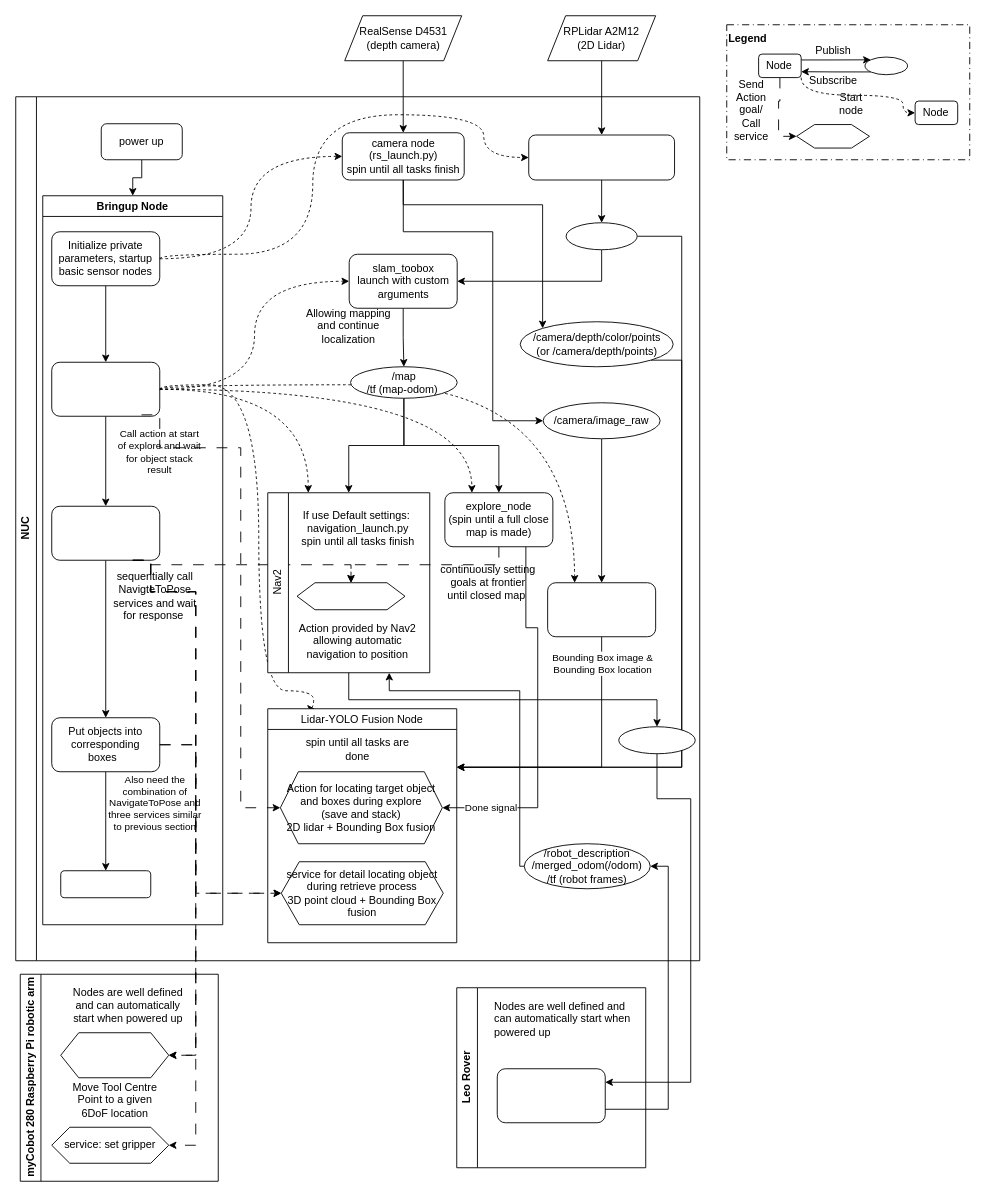
This 986x1197 diagram has some shape labels left out. The shapes that lost their labels are listed below. From the top down, each one's centre as x and y in pixels, then its label:
point (886, 65): topic
point (832, 136): Action/Service
point (601, 157): lidar node (rplidar_a2m12_launch.py) spin until all tasks finish
point (601, 236): /scan
point (105, 388): Explore and localize target objects and return boxes
point (105, 532): sequentially retrieve target objects
point (350, 596): NavigateToPose
point (601, 609): YOLOv11 node spin until all tasks are finish
point (656, 740): /cmd_vel
point (105, 884): end of process
point (114, 1055): service: SetCoords
point (550, 1095): Leo_core Firmware
